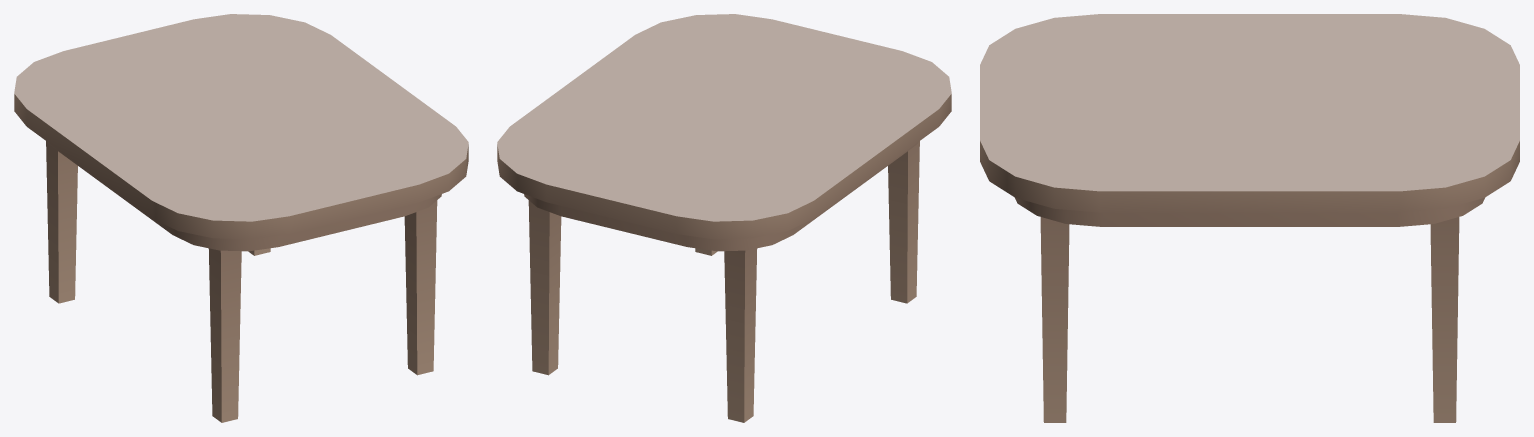
The model's file is table-kitchen-rounded-narrow.glb.
The picture shows the model from 3 angles, left to right: view 1: azimuth 30°, elevation 25°; view 2: azimuth 150°, elevation 25°; view 3: azimuth 270°, elevation 25°; orthographic projection. The views are drawn at different scales.
Parts seen in each view (by area): view 1: table-kitchen-rounded-narrow; view 2: table-kitchen-rounded-narrow; view 3: table-kitchen-rounded-narrow.
Boxes of the visible parts, x1,y1,x2,y2 form: table-kitchen-rounded-narrow: (14,14,468,422); table-kitchen-rounded-narrow: (497,14,951,422); table-kitchen-rounded-narrow: (980,14,1519,422).
Size of the model in its own units: 0.7 by 0.4756 by 0.9.
